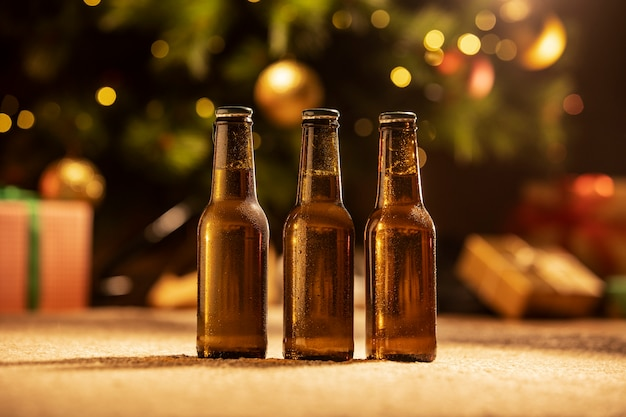alcohol: (364, 112, 439, 364), (197, 103, 271, 358), (283, 109, 357, 360)
